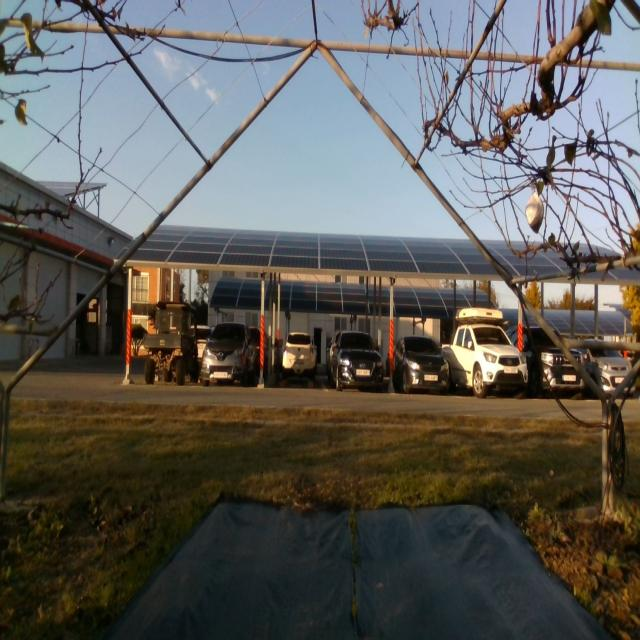pearbags: (526, 191, 544, 233)
